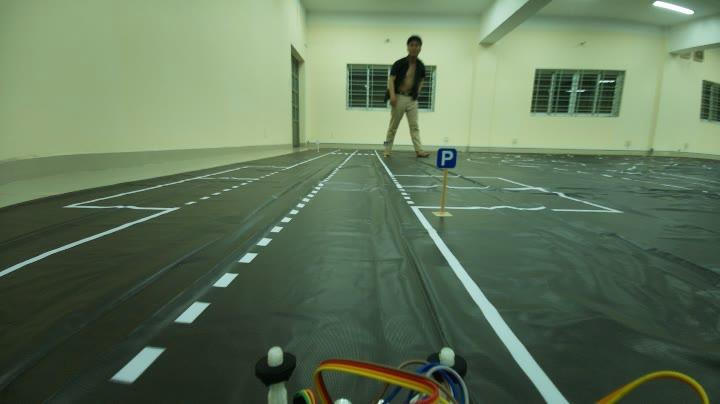parking: (431, 146, 461, 175)
